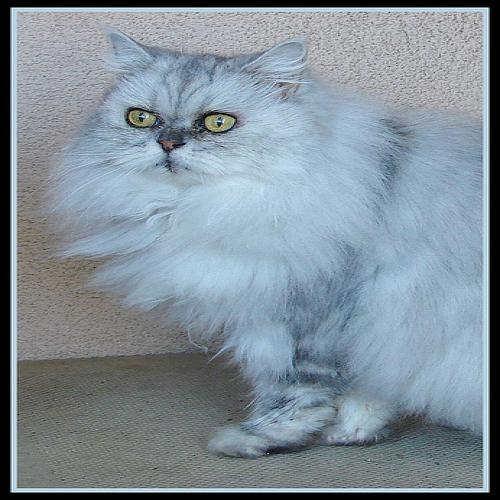persian: (69, 26, 322, 196)
